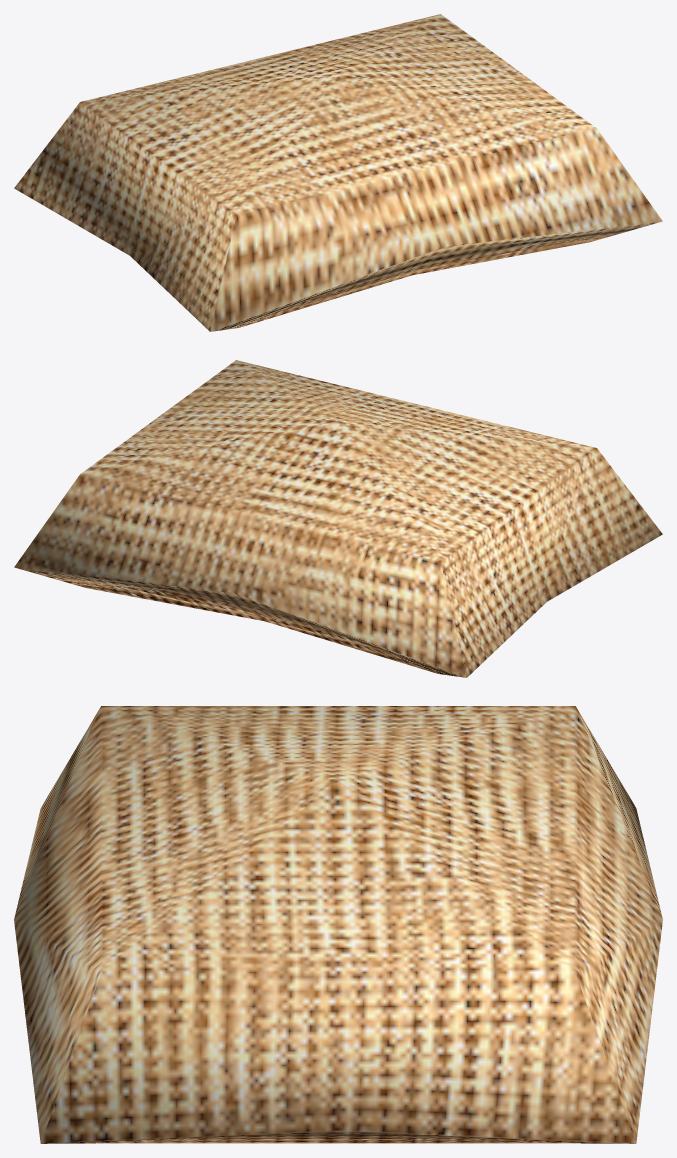
Rendered from hemp.fbx.
3 views of the same model, one above another, from view 1: azimuth 30°, elevation 25°; view 2: azimuth 150°, elevation 25°; view 3: azimuth 270°, elevation 25° (orthographic). The views are drawn at different scales.
Visible parts, largest first — view 1: hemp_Mesh_001; view 2: hemp_Mesh_001; view 3: hemp_Mesh_001.
Boxes of the visible parts, box(x1,y1,x2,y2) form: hemp_Mesh_001: box(14, 14, 662, 331); hemp_Mesh_001: box(14, 360, 662, 677); hemp_Mesh_001: box(14, 706, 662, 1143).
Bounding box in the file's own units: 84 × 27.03 × 68.63.
